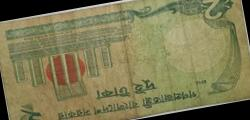2 taka: (6, 1, 242, 120)
